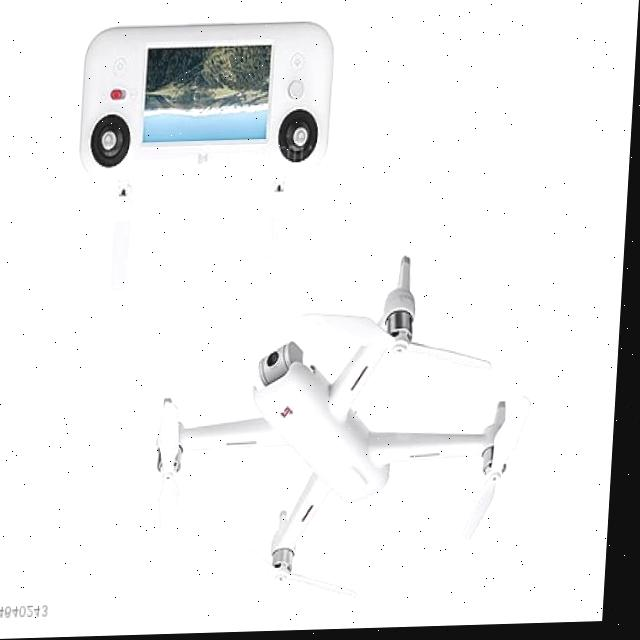drone: (121, 248, 561, 599)
